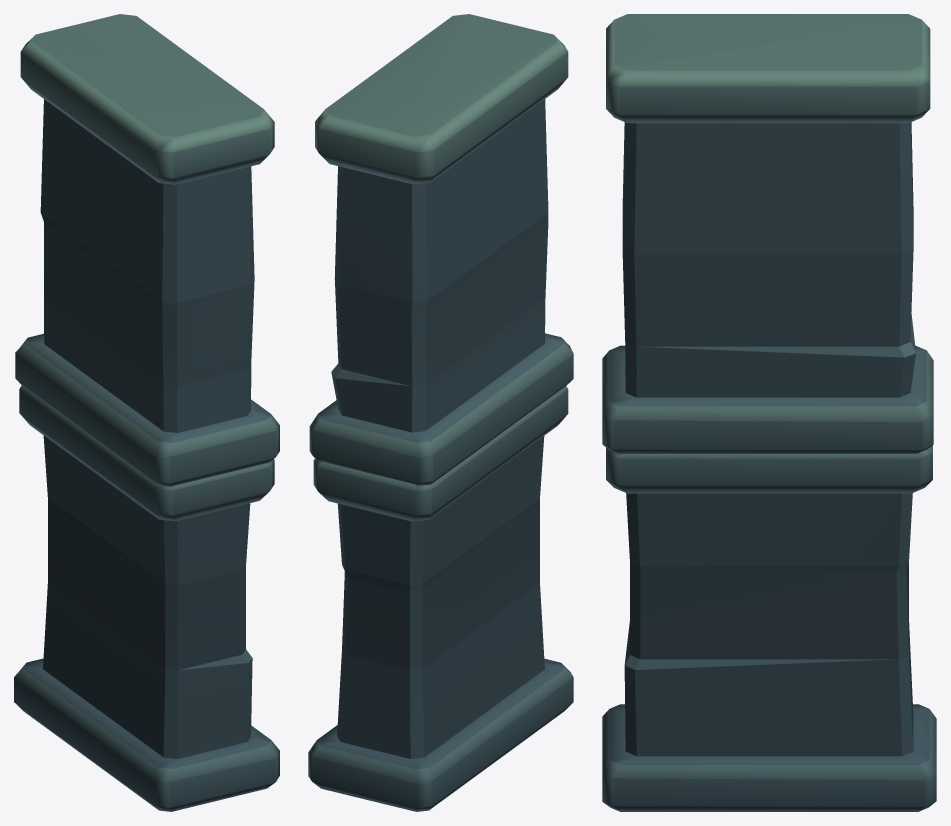
Rendered from pillar_narrow_1.fbx.
The picture shows the model from 3 angles, left to right: view 1: azimuth 30°, elevation 25°; view 2: azimuth 150°, elevation 25°; view 3: azimuth 270°, elevation 25°; orthographic projection. The views are drawn at different scales.
Visible parts, largest first — view 1: pillar_narrow_1; view 2: pillar_narrow_1; view 3: pillar_narrow_1.
Boxes of the visible parts, bbox=[...] form: pillar_narrow_1: bbox=[14, 14, 279, 811]; pillar_narrow_1: bbox=[308, 14, 573, 811]; pillar_narrow_1: bbox=[602, 14, 936, 811].
Size of the model in its own units: 80.07 by 415 by 170.
